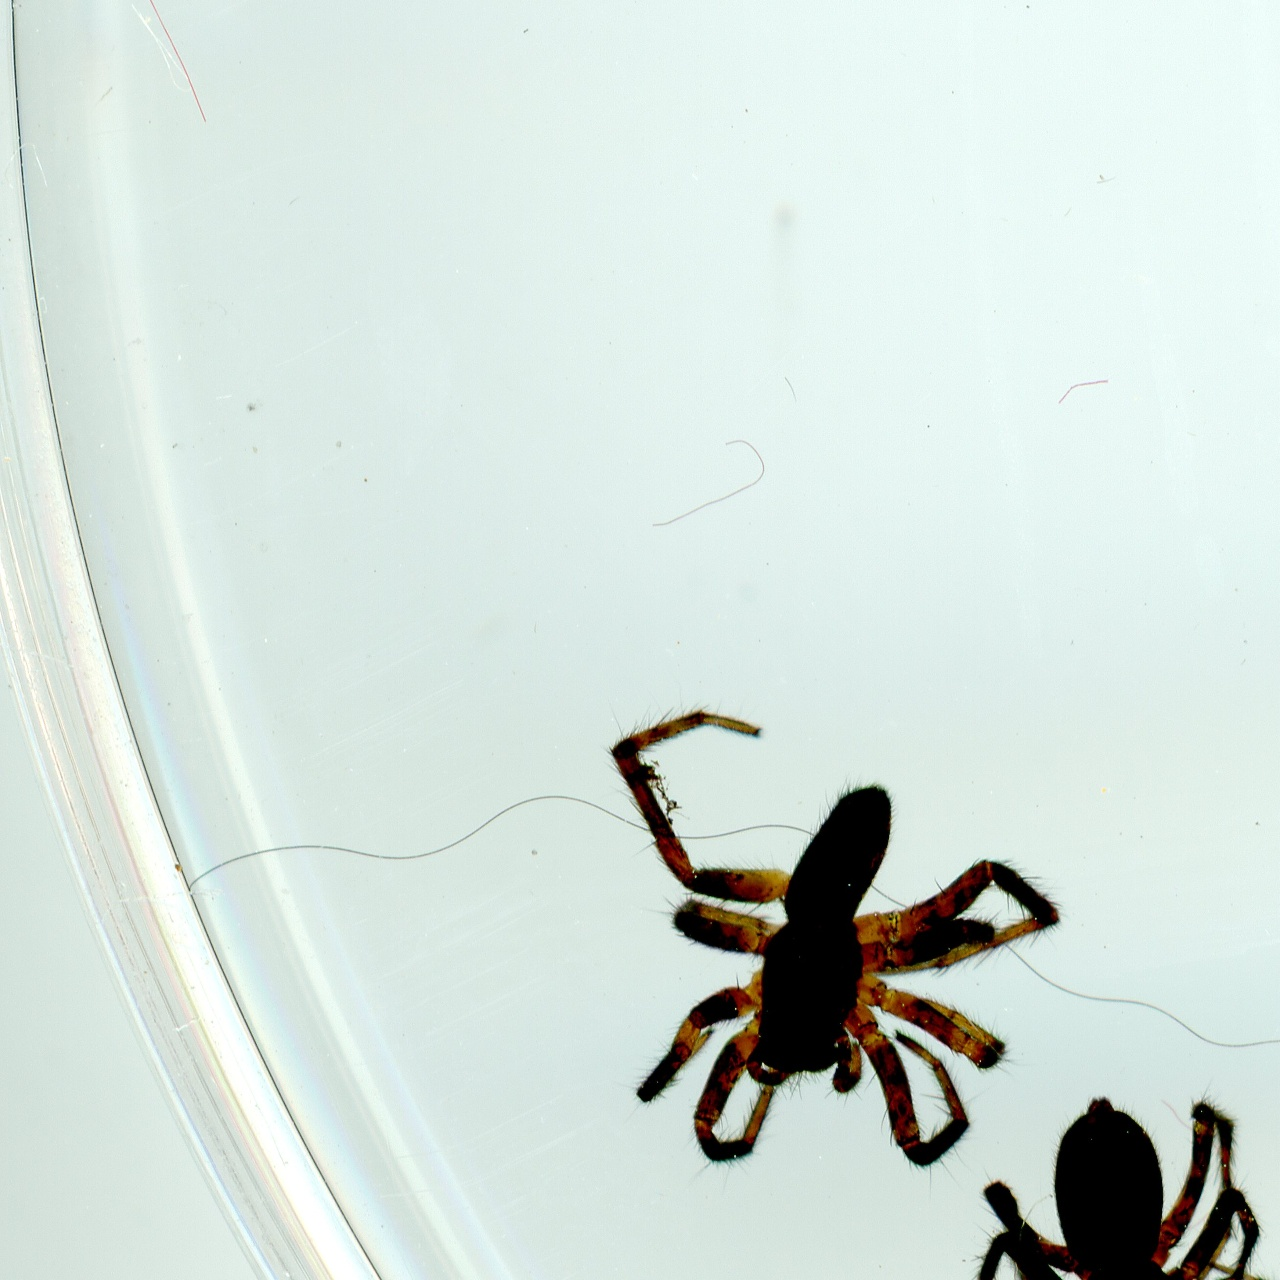arthropod: (604, 695, 1055, 1162), (938, 1095, 1280, 1280)
